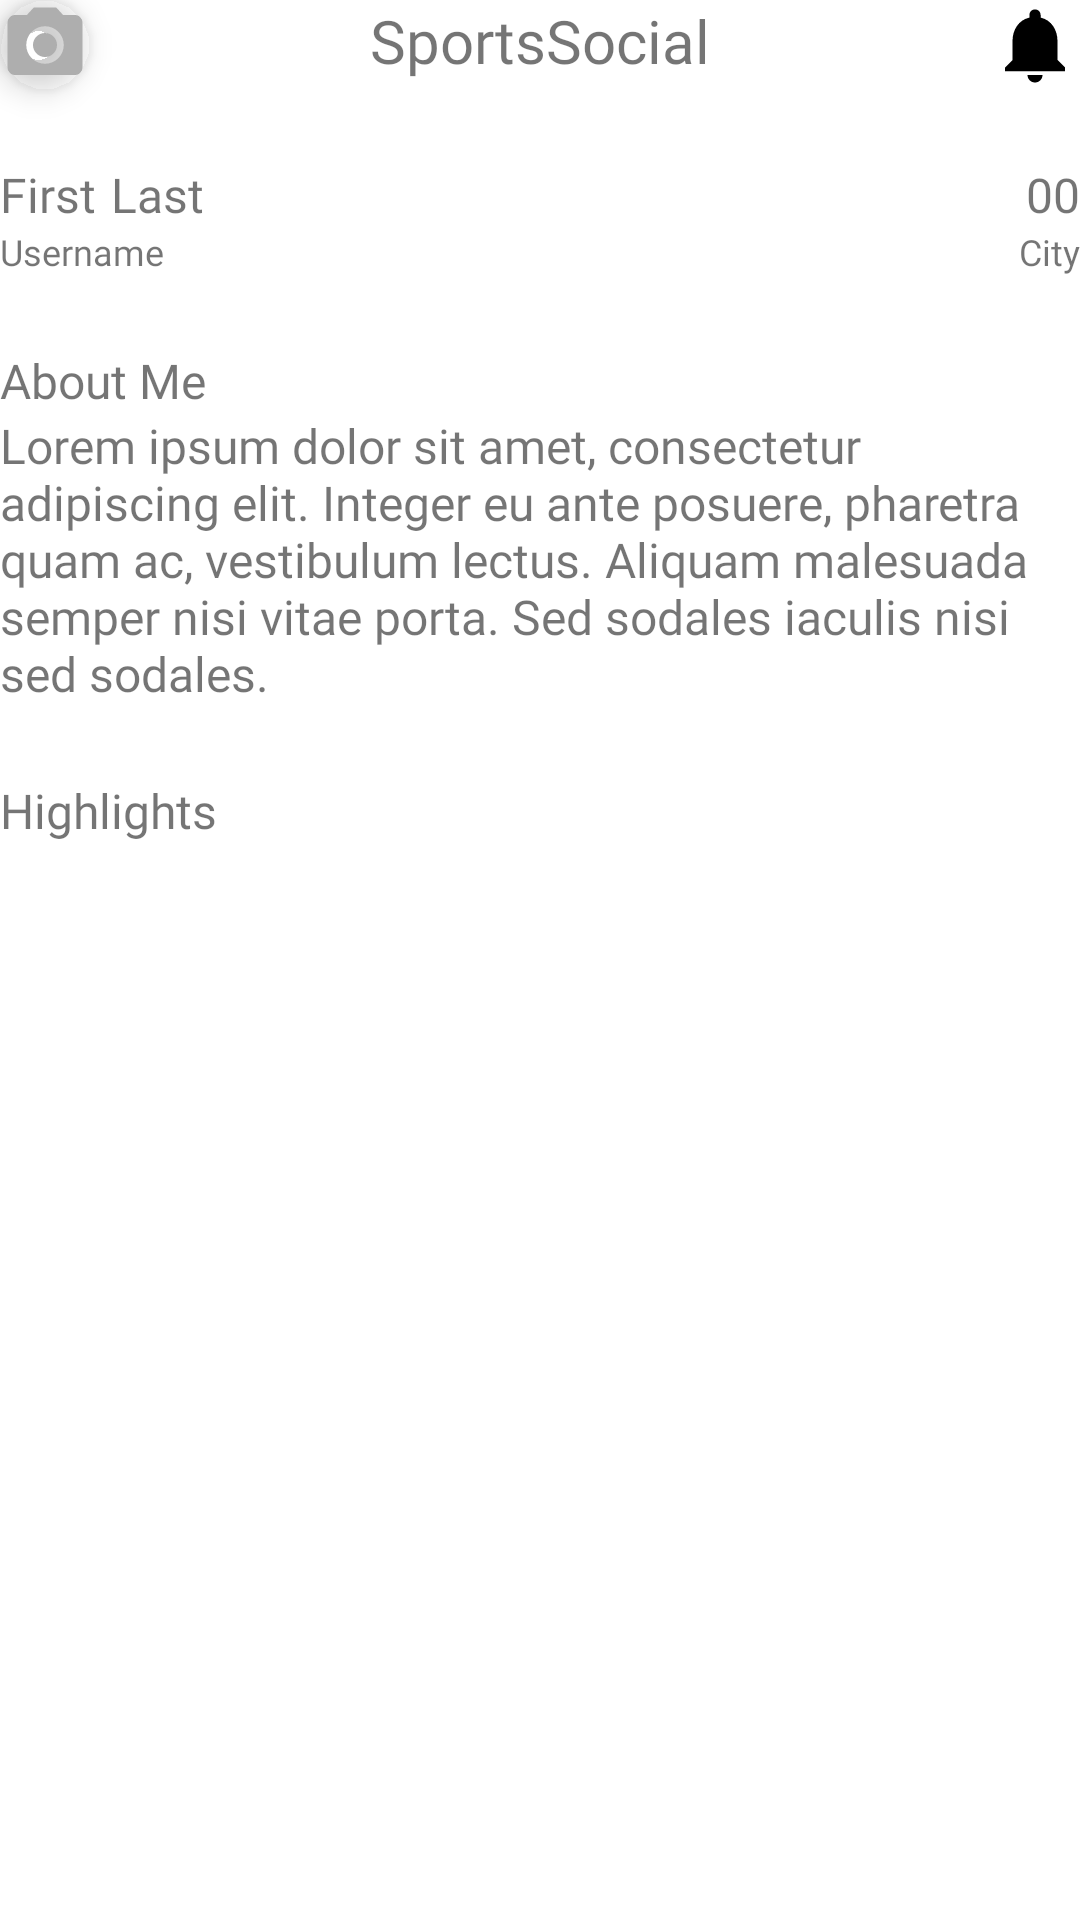

Icon click points for this 1080w x 1920h phone screenshot, format point (x, y):
notifications: point (1035, 46)
photo camera: point (45, 41)
